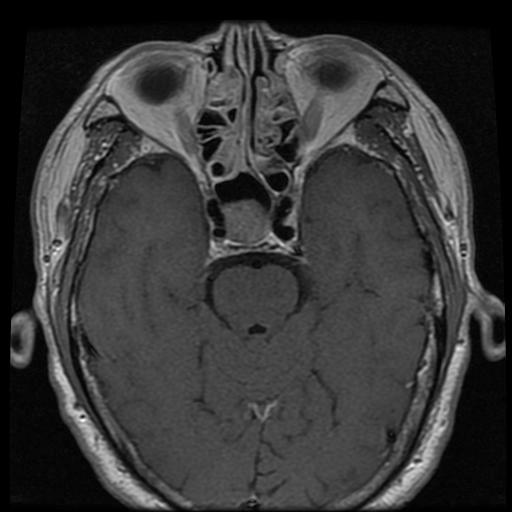Tumour-Pituitary: (193, 192, 312, 275)
